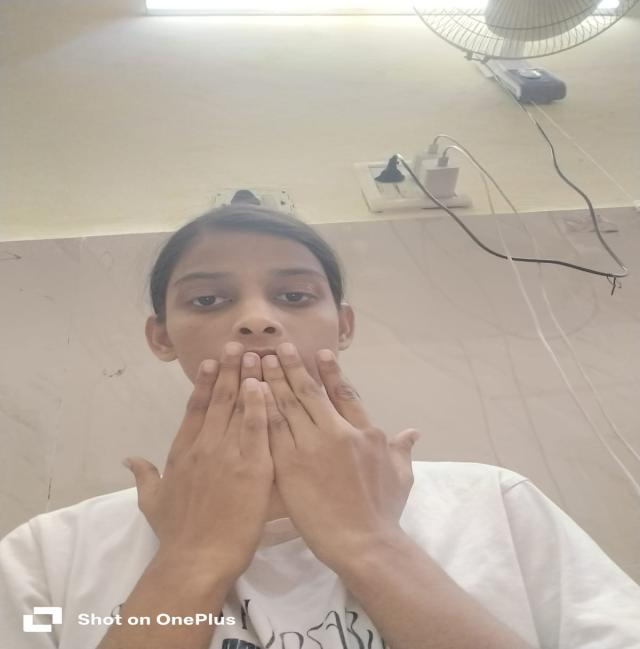Thanks: (112, 332, 432, 570)
